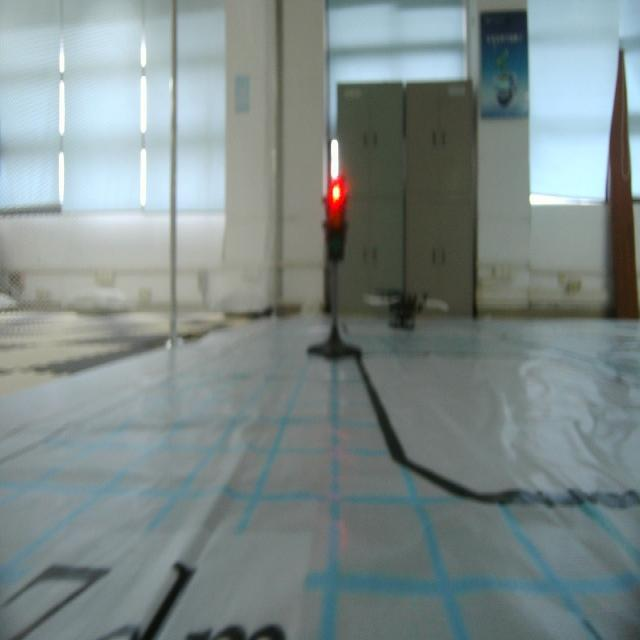red: (326, 177, 347, 261)
